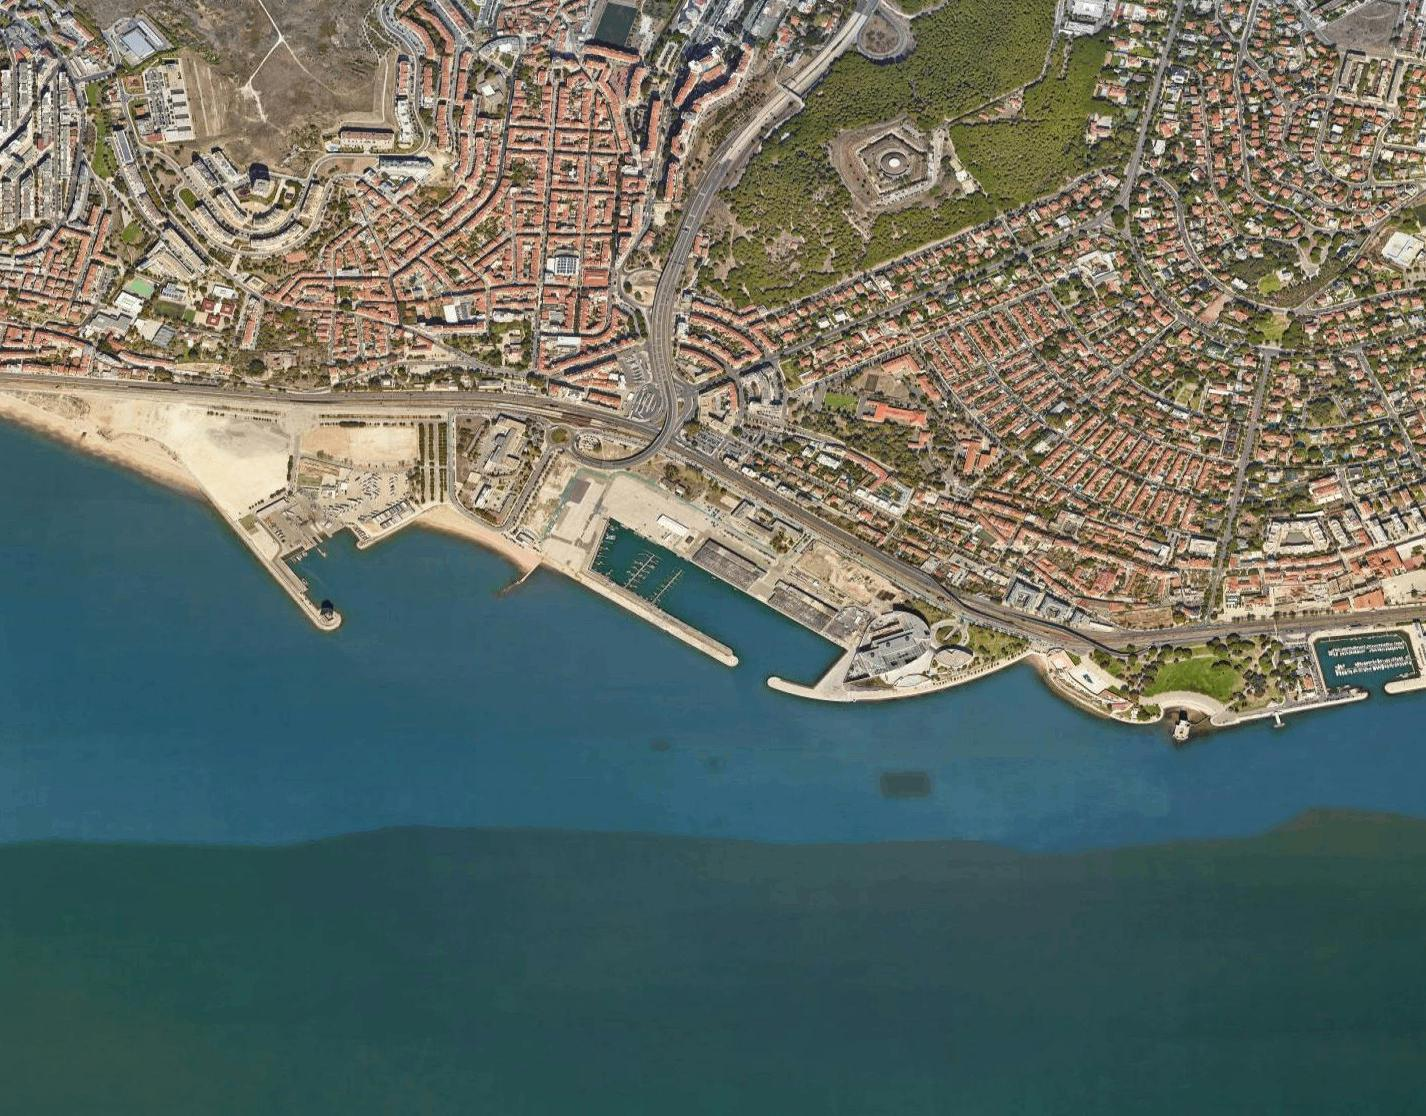harbor: (205, 502, 876, 728), (1296, 617, 1426, 721)
industrial: (95, 7, 205, 148)
motorway: (762, 1, 875, 120), (654, 200, 708, 303), (698, 112, 760, 200), (650, 302, 683, 414)
